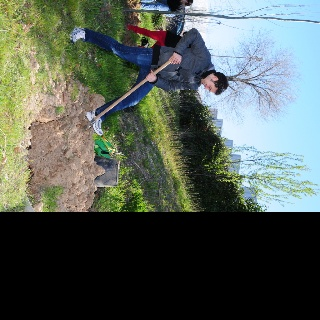without_mask: (200, 77, 218, 92)
